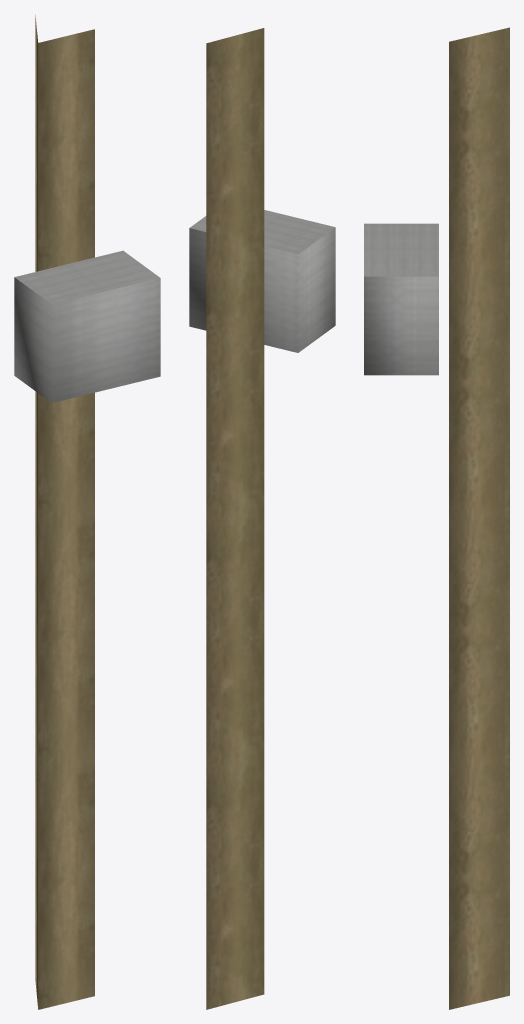
File: power-pole-transformer-cbj_LOD03.gltf
3 renders of one model, left to right at view 1: azimuth 30°, elevation 25°; view 2: azimuth 150°, elevation 25°; view 3: azimuth 270°, elevation 25°, orthographic.
Visible parts, largest first — view 1: power-pole3; view 2: power-pole3; view 3: power-pole3.
Part boxes in pixels (bbox=[...]): power-pole3: bbox=[14, 15, 160, 1009]; power-pole3: bbox=[189, 28, 335, 1009]; power-pole3: bbox=[364, 27, 509, 1009].
Size of what is drawn, in the model's own units: 1.53 by 13 by 1.77.
